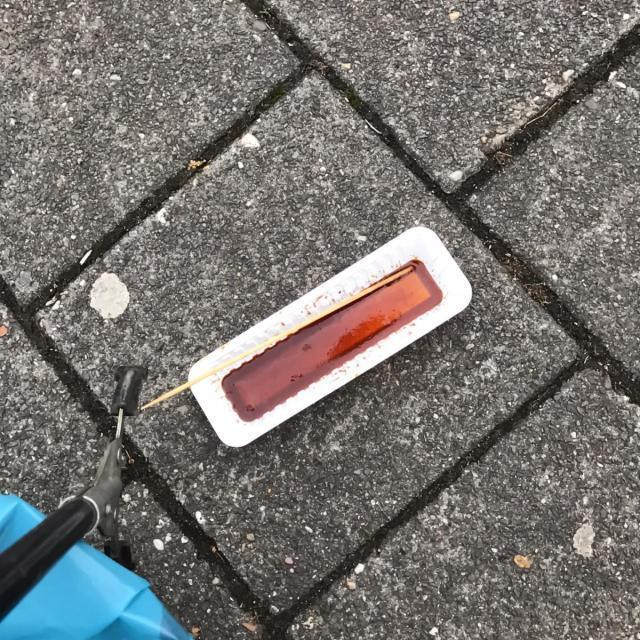Plastic: (185, 222, 474, 449)
